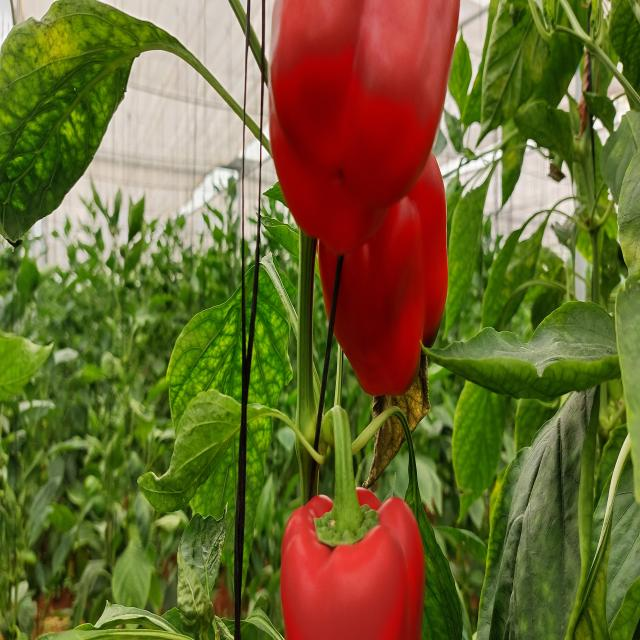Red-Ready-to-Harvest: (273, 5, 458, 243), (327, 172, 478, 413), (272, 491, 431, 640)
